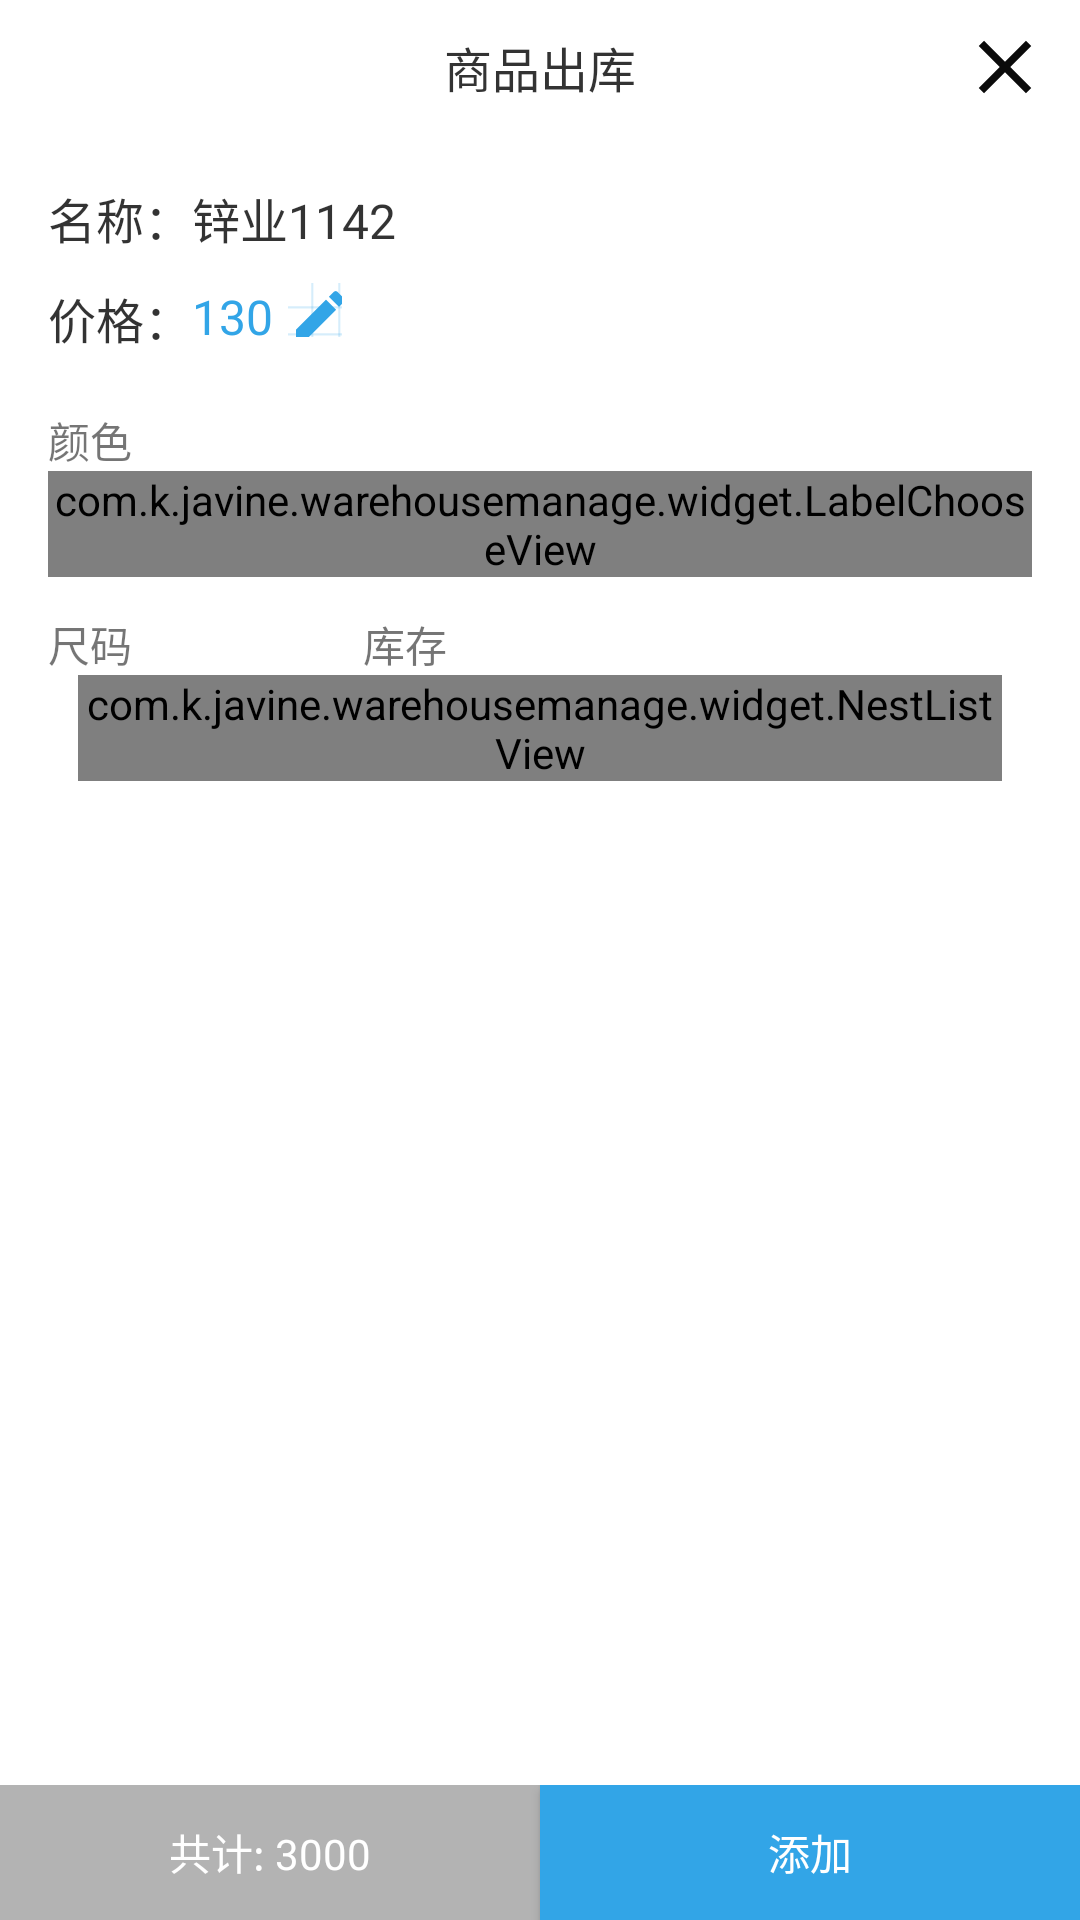

Named icons in this screenshot (1080px×1920px) and their centers, point (x, y):
close: point (1005, 67)
edit: point (315, 310)
